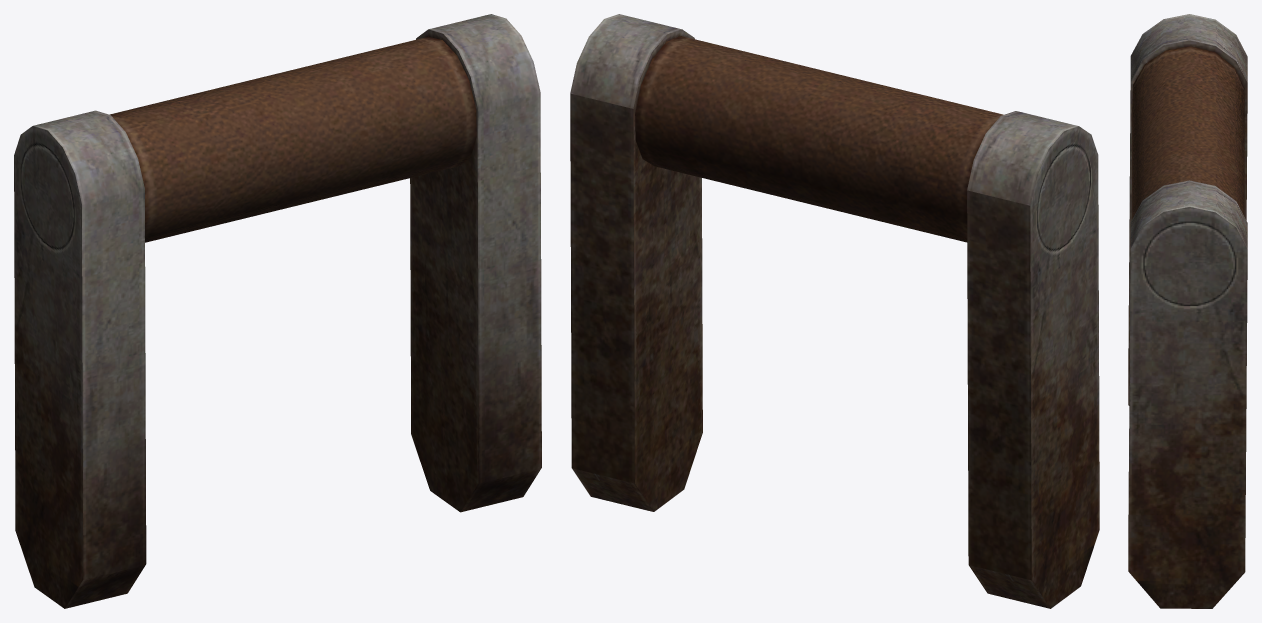
The model's file is lever_pplant_break_handle.dae.
3 views of the same model, side by side, from view 1: azimuth 30°, elevation 25°; view 2: azimuth 150°, elevation 25°; view 3: azimuth 270°, elevation 25° (orthographic). The views are drawn at different scales.
Parts seen in each view (by area): view 1: lever__2_; view 2: lever__2_; view 3: lever__2_.
Boxes of the visible parts, <box> form: lever__2_: <box>14,14,541,608</box>; lever__2_: <box>570,14,1099,608</box>; lever__2_: <box>1128,14,1247,608</box>.
Bounding box in the file's own units: 0.3213 × 0.3124 × 0.0841.
